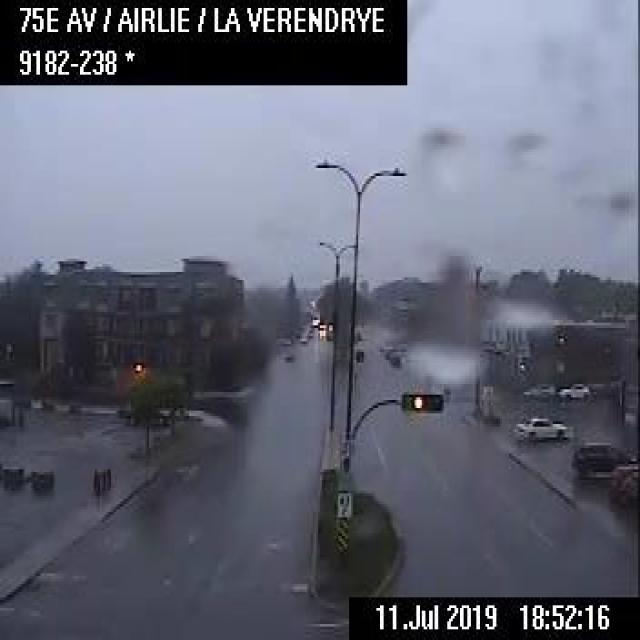construction: (104, 466, 110, 489), (94, 469, 99, 491), (91, 466, 95, 488), (100, 468, 104, 489)
vehicle: (570, 440, 629, 476), (512, 413, 568, 441), (605, 464, 637, 505), (521, 381, 556, 399), (559, 380, 589, 400), (298, 332, 309, 342), (316, 326, 326, 337)
